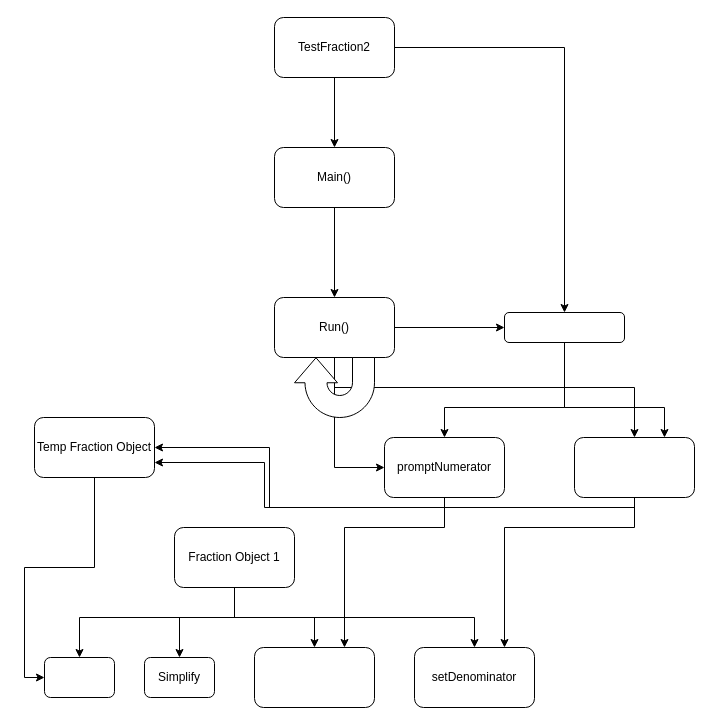
Image size: 712x725. Some labels were removed from this diagram. The shapes that lost their labels are listed below. From the top down, each one's centre as x and y in pixels, then its label:
At (x=564, y=327): "Scanner Object".
At (x=634, y=467): "promptdenominator".
At (x=79, y=677): "Add".
At (x=314, y=677): "setNumerator".
